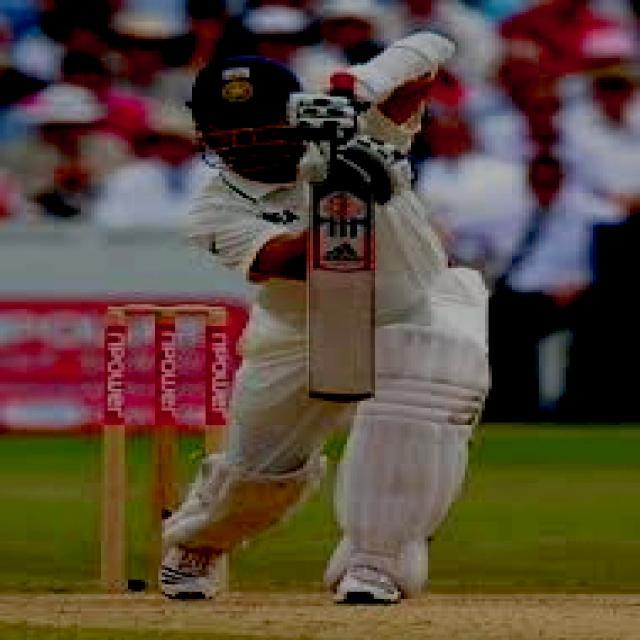bat: (305, 180, 376, 402)
toe: (309, 384, 379, 405)
